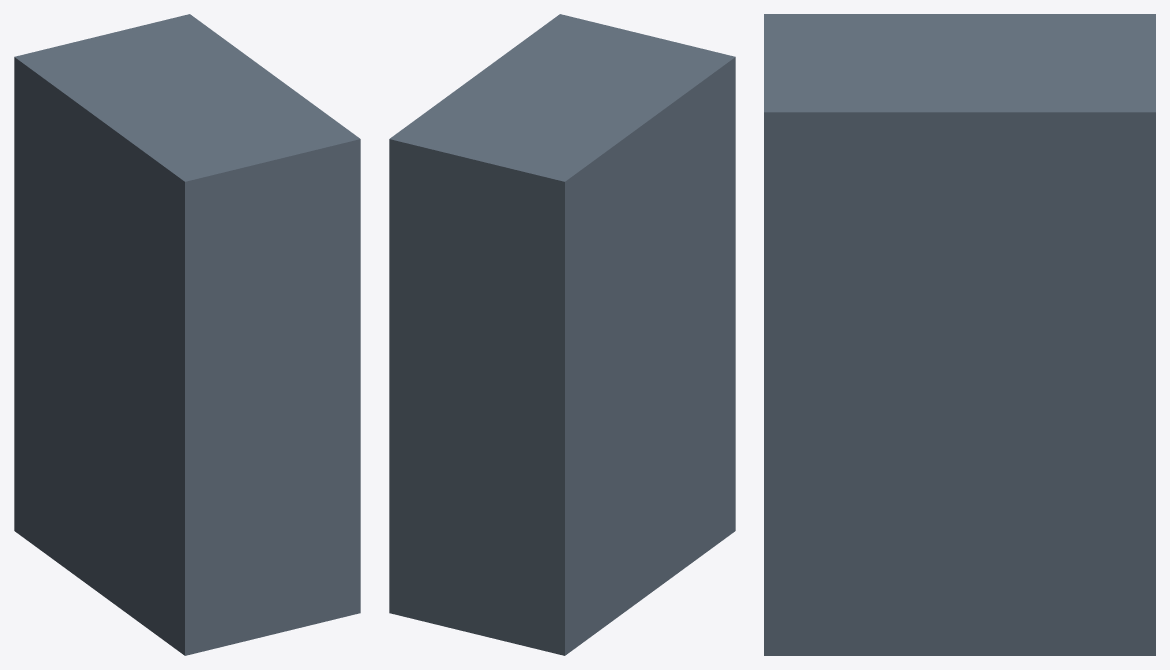
Rendered from livro_5.glb.
3 views of the same model, side by side, from view 1: azimuth 30°, elevation 25°; view 2: azimuth 150°, elevation 25°; view 3: azimuth 270°, elevation 25° (orthographic). The views are drawn at different scales.
Parts seen in each view (by area): view 1: Livro; view 2: Livro; view 3: Livro.
Boxes of the visible parts, x1,y1,x2,y2 form: Livro: [14, 14, 360, 655]; Livro: [389, 14, 735, 655]; Livro: [764, 14, 1155, 655].
Bounding box in the file's own units: 0.19 × 0.49 × 0.32.
